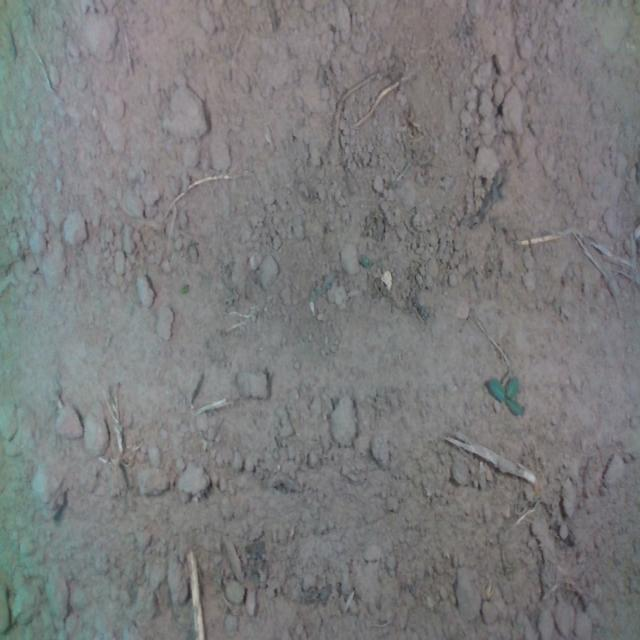weed: (487, 372, 523, 417)
